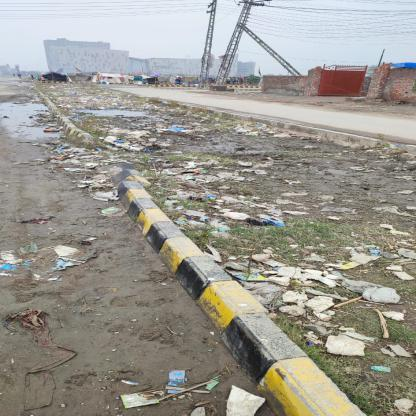Garbage: (64, 108, 327, 244)
